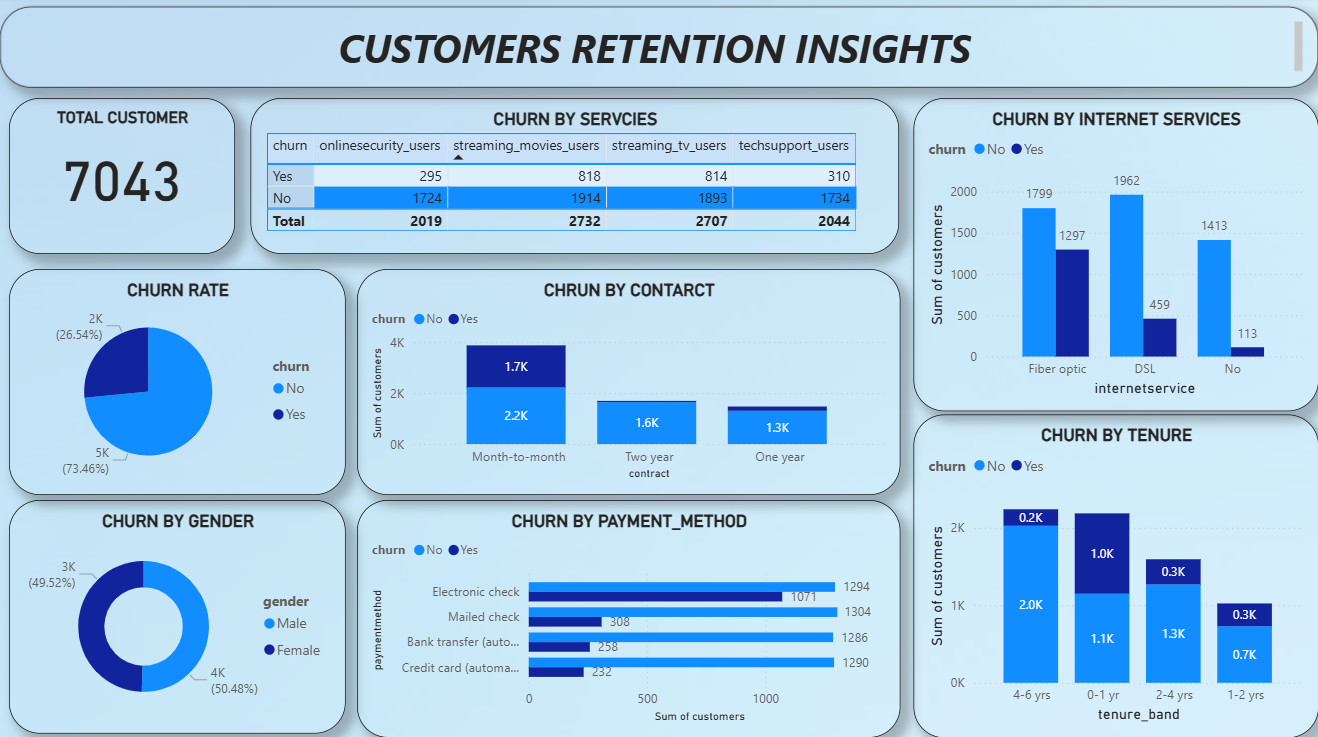

Layout of this report page (visuals, bound fields, positions):
{"tool":"powerbi","page":{"name":"Page 1","canvas":[1280,720],"ordinal":0},"visuals":[{"type":"pieChart","title":"CHURN RATE","fields":{"Category":["vw_churn_rate.churn"],"Y":["Sum(vw_churn_rate.customer_count)"]},"box":[9.4,264.6,326.9,219.2],"z":0},{"type":"columnChart","title":"CHRUN BY CONTARCT","fields":{"Category":["vw_churn_by_contract.contract"],"Series":["vw_churn_by_contract.churn"],"Y":["Sum(vw_churn_by_contract.customers)"]},"box":[345.8,264.6,527.2,219.2],"z":1000},{"type":"clusteredBarChart","title":"CHURN BY PAYMENT_METHOD","fields":{"Category":["vw_churn_by_payment.paymentmethod"],"Series":["vw_churn_by_payment.churn"],"Y":["Sum(vw_churn_by_payment.customers)"]},"box":[345.8,489.5,527.2,230.6],"z":2000},{"type":"columnChart","title":"CHURN BY TENURE","fields":{"Category":["vw_churn_by_tenure.tenure_band"],"Series":["vw_churn_by_tenure.churn"],"Y":["Sum(vw_churn_by_tenure.customers)"]},"box":[886.3,406.3,393.1,313.7],"z":3000},{"type":"donutChart","title":"CHURN BY GENDER","fields":{"Category":["vw_churn_by_gender.gender"],"Y":["Sum(vw_churn_by_gender.customers)"]},"box":[9.4,489.5,326.9,226.8],"z":4000},{"type":"textbox","box":[0,10.2,1279.4,78.6],"z":5000},{"type":"card","title":"TOTAL CUSTOMER ","fields":{"Values":["Sum(vw_churn_by_payment.customers)"]},"box":[9.4,98.3,219.2,151.2],"z":6000},{"type":"tableEx","title":"CHURN BY SERVCIES","fields":{"Values":["vw_churn_by_services.churn","Sum(vw_churn_by_services.onlinesecurity_users)","Sum(vw_churn_by_services.streaming_movies_users)","Sum(vw_churn_by_services.streaming_tv_users)","Sum(vw_churn_by_services.techsupport_users)"]},"box":[243.8,98.3,629.3,151.2],"z":7000},{"type":"clusteredColumnChart","title":"CHURN BY INTERNET SERVICES","fields":{"Category":["vw_churn_by_internet.internetservice"],"Series":["vw_churn_by_internet.churn"],"Y":["Sum(vw_churn_by_internet.customers)"]},"box":[886.3,98.3,393.1,304.3],"z":9000}]}

Visuals, with their boxes in screenshot pixels (x1, y1, x2, y2), scaled from the page's 1280x720 canvas onto the 1318x737 screenshot:
"CHURN RATE" pieChart: detection(10, 271, 346, 495)
"CHRUN BY CONTARCT" columnChart: detection(356, 271, 899, 495)
"CHURN BY PAYMENT_METHOD" clusteredBarChart: detection(356, 501, 899, 736)
"CHURN BY TENURE" columnChart: detection(913, 416, 1317, 736)
"CHURN BY GENDER" donutChart: detection(10, 501, 346, 733)
textbox: detection(0, 10, 1317, 91)
"TOTAL CUSTOMER " card: detection(10, 101, 235, 255)
"CHURN BY SERVCIES" tableEx: detection(251, 101, 899, 255)
"CHURN BY INTERNET SERVICES" clusteredColumnChart: detection(913, 101, 1317, 412)
